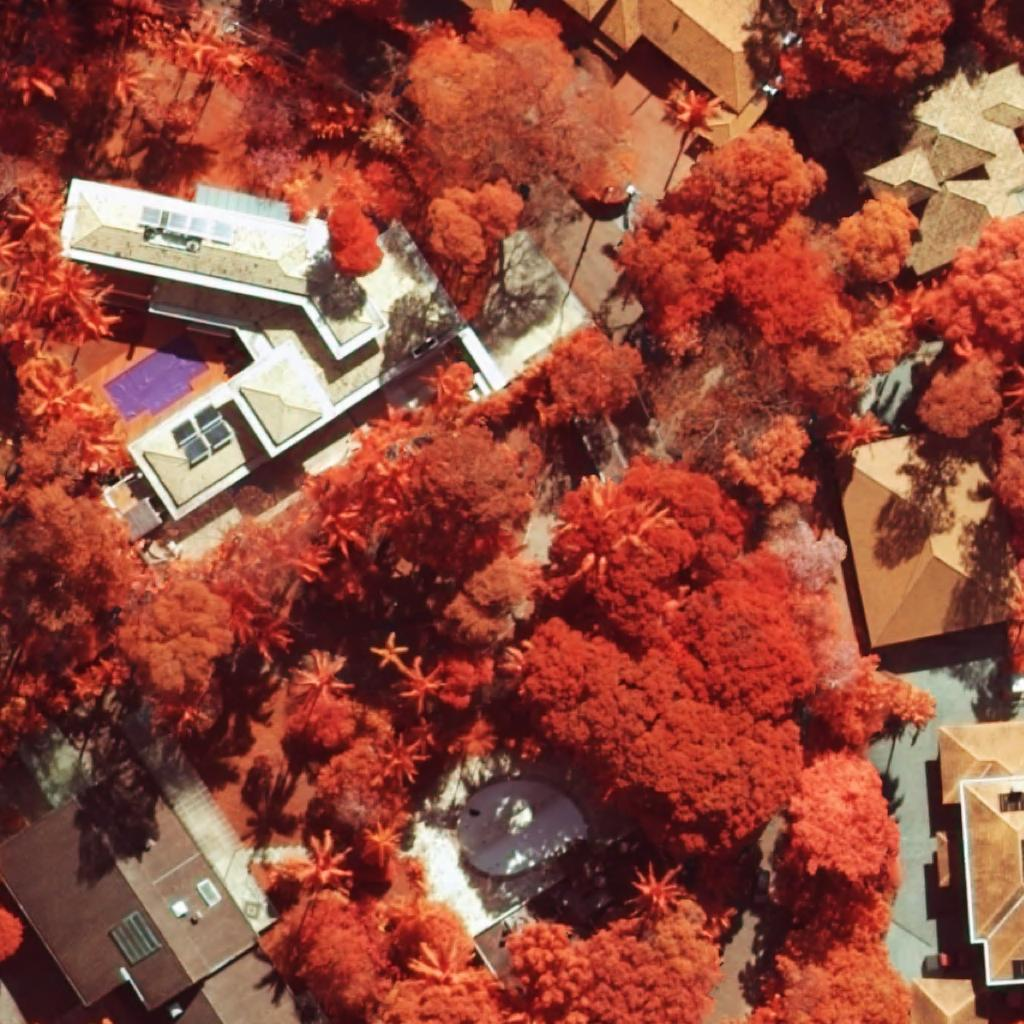pool: (104, 333, 210, 422)
